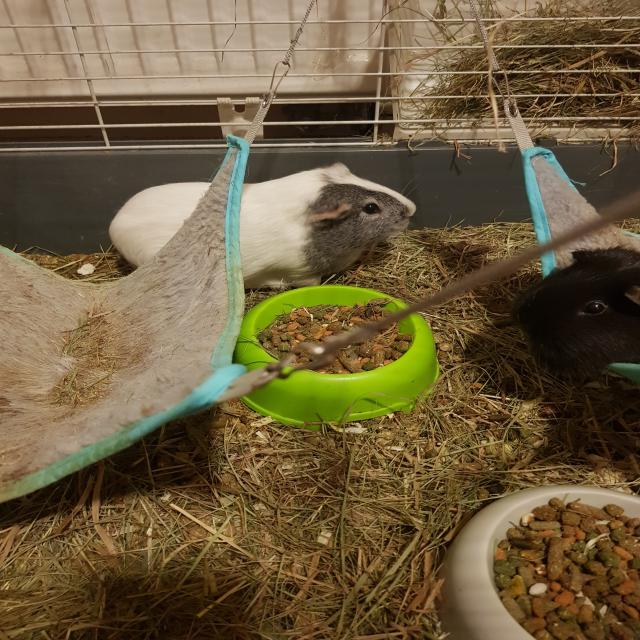guinea pig: (107, 158, 417, 287), (508, 243, 640, 384)
